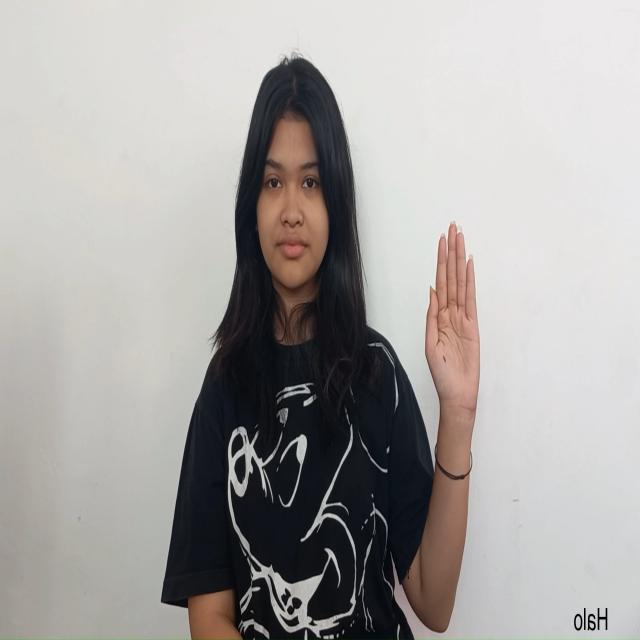Halo -BISINDO-: (425, 218, 481, 438)
